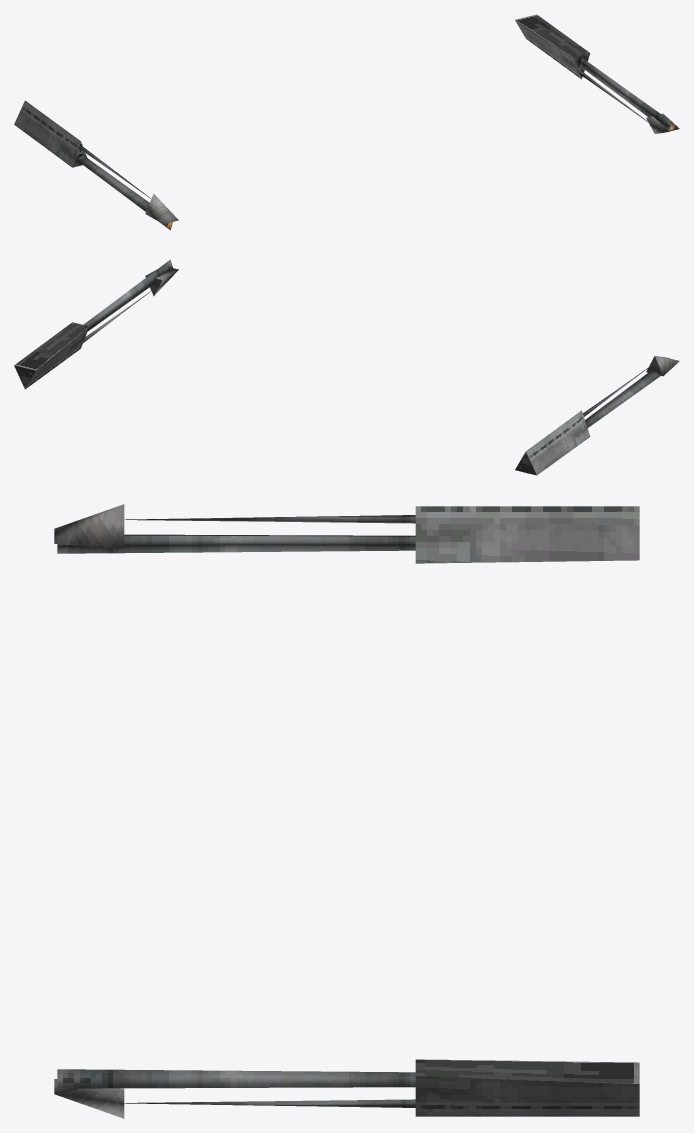
Rendered from xwing_weapon1_pos_s06_l3.fbx.
3 renders of one model, top to bottom at view 1: azimuth 30°, elevation 25°; view 2: azimuth 150°, elevation 25°; view 3: azimuth 270°, elevation 25°, orthographic. The views are drawn at different scales.
Visible parts, largest first — view 1: mesh_node; view 2: mesh_node; view 3: mesh_node.
Boxes of the visible parts, x1,y1,x2,y2 form: mesh_node: (14,14,679,230); mesh_node: (14,259,679,475); mesh_node: (54,504,639,1118).
Bounding box in the file's own units: 12.87 × 1.48 × 6.24.
